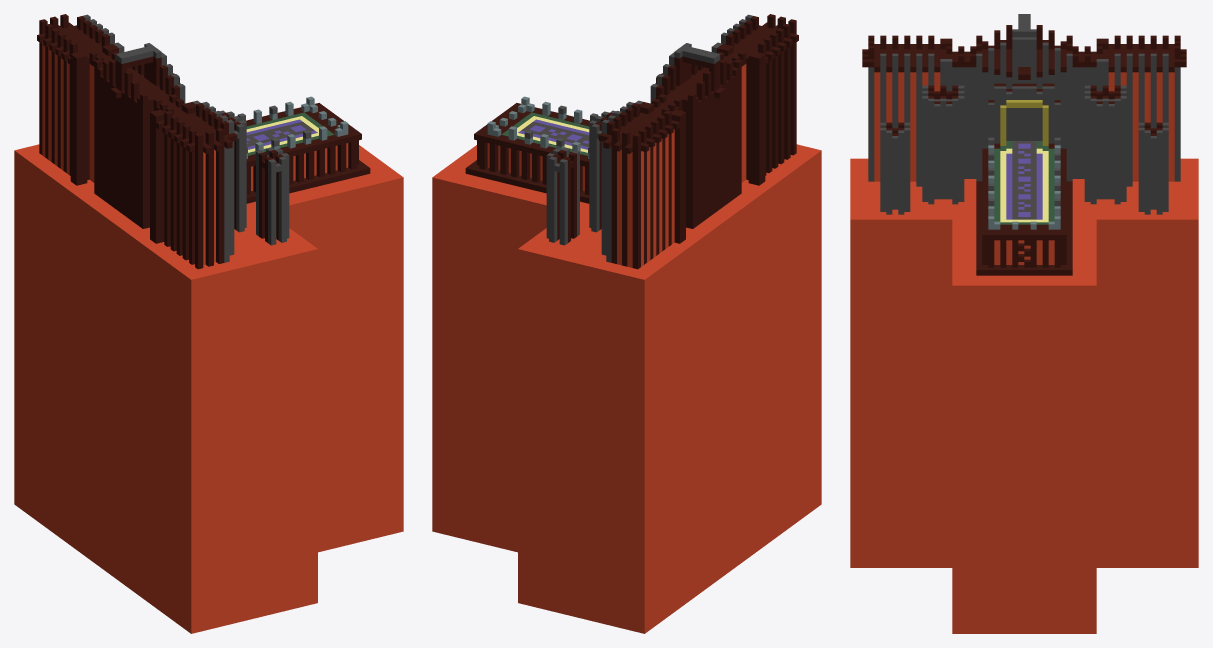
The model's file is miniEscenarioLavaCorrected.obj.
3 views of the same model, side by side, from view 1: azimuth 30°, elevation 25°; view 2: azimuth 150°, elevation 25°; view 3: azimuth 270°, elevation 25° (orthographic).
Visible parts, largest first — view 1: world.007; view 2: world.007; view 3: world.007.
Part boxes in pixels (box(x1,y1,x2,y2)): world.007: box(14, 14, 403, 633); world.007: box(432, 14, 821, 633); world.007: box(850, 14, 1198, 633).
Bounding box in the file's own units: 5 × 9.2 × 5.8.
